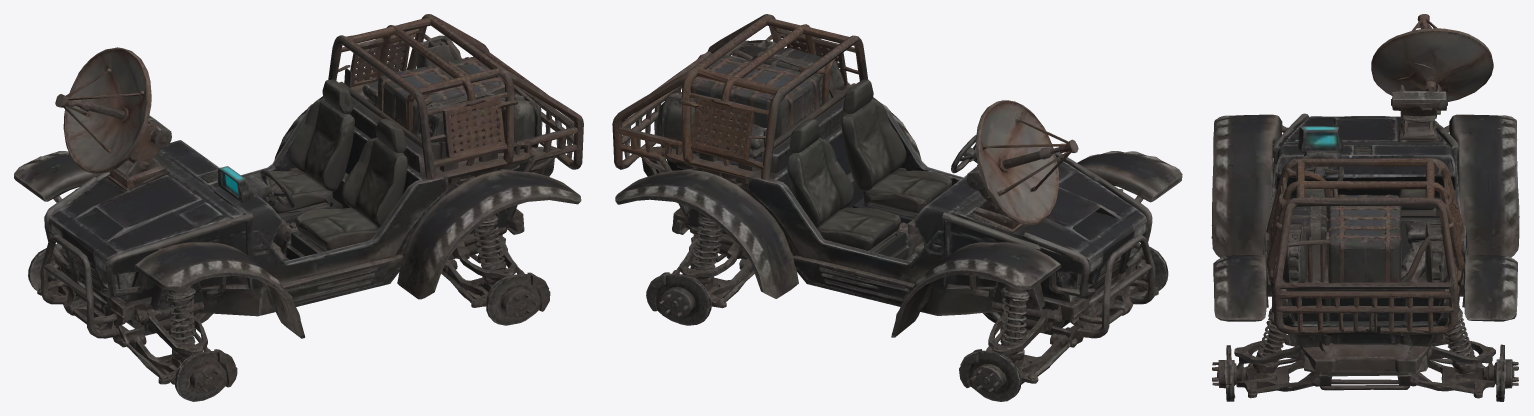
The model's file is decor.buggy.glb.
3 renders of one model, left to right at view 1: azimuth 30°, elevation 25°; view 2: azimuth 150°, elevation 25°; view 3: azimuth 270°, elevation 25°, orthographic. The views are drawn at different scales.
Parts seen in each view (by area): view 1: body; view 2: body; view 3: body.
Part boxes in pixels (bbox=[...]): body: bbox=[14, 14, 583, 401]; body: bbox=[612, 14, 1182, 401]; body: bbox=[1211, 14, 1519, 401].
Size of the model in its own units: 4.4 by 2.3 by 2.65.
Materials: 1 (1 with a texture image).
